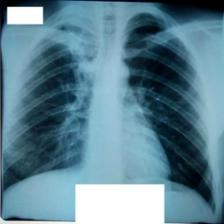tuberculosis: (2, 11, 224, 217)
